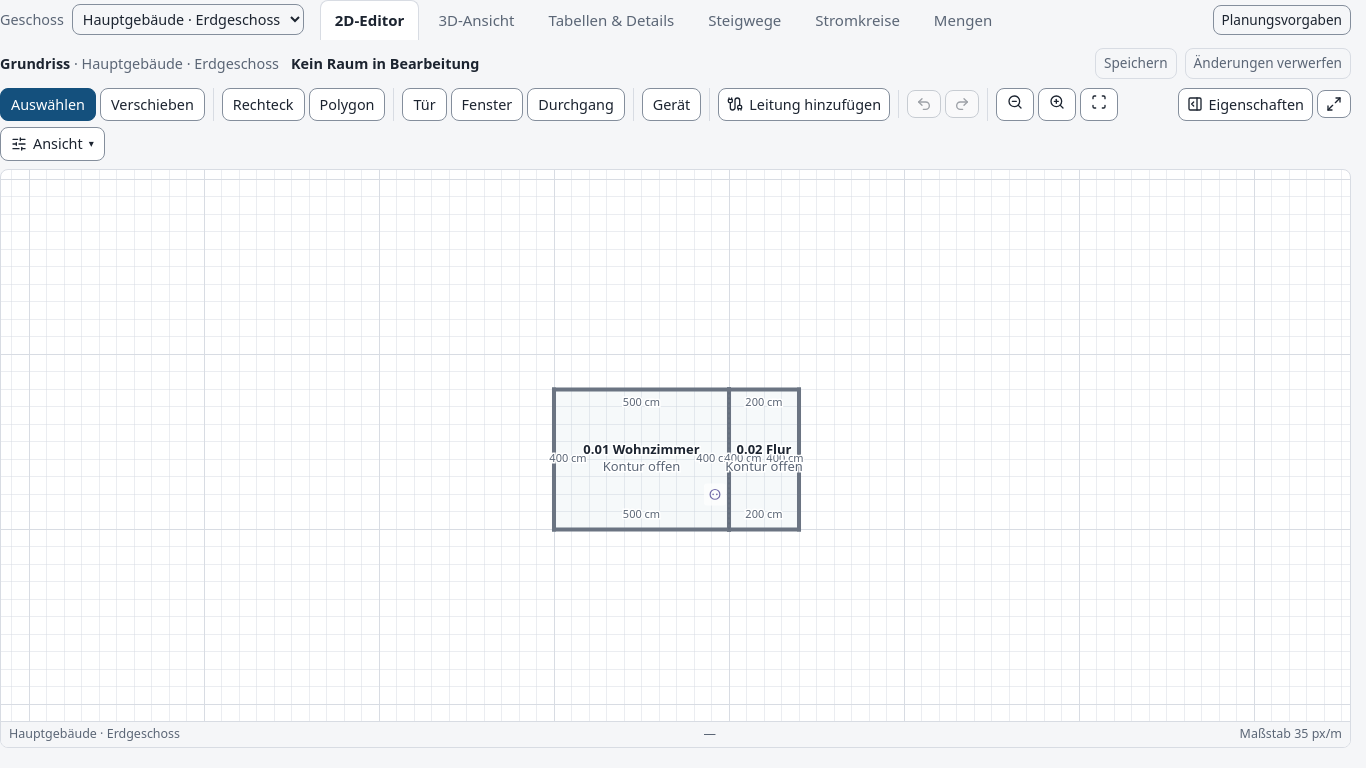
Test case: Gerätekatalog im Grundriss (K1) › Knopf und Taste G öffnen den Katalog; Abbrechen ändert nichts
Click the button "Gerät". click: (672, 104)
box: [642, 88, 701, 121]
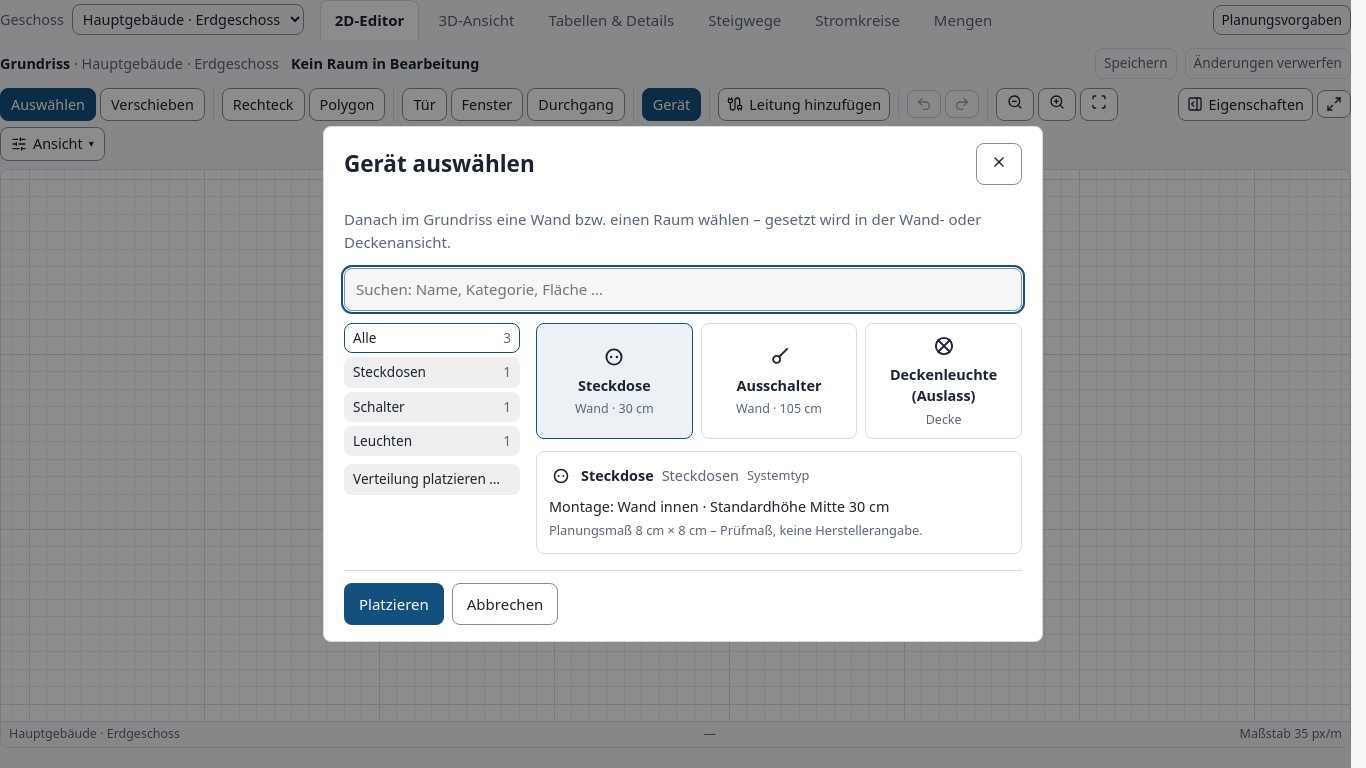
Click the button "Abbrechen". click: (505, 604)
box: [452, 583, 558, 625]
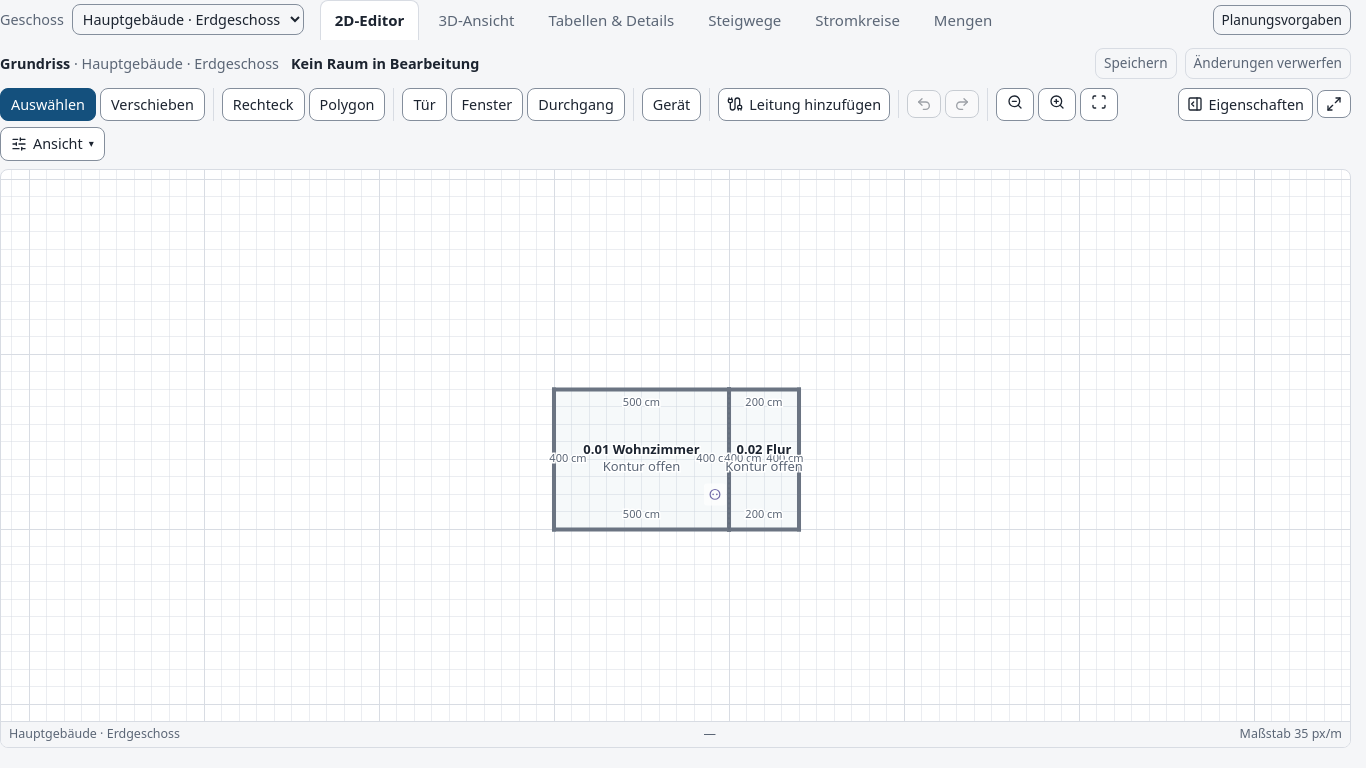
Now the dialog is gone
Press g in the icon named "Grundriss"
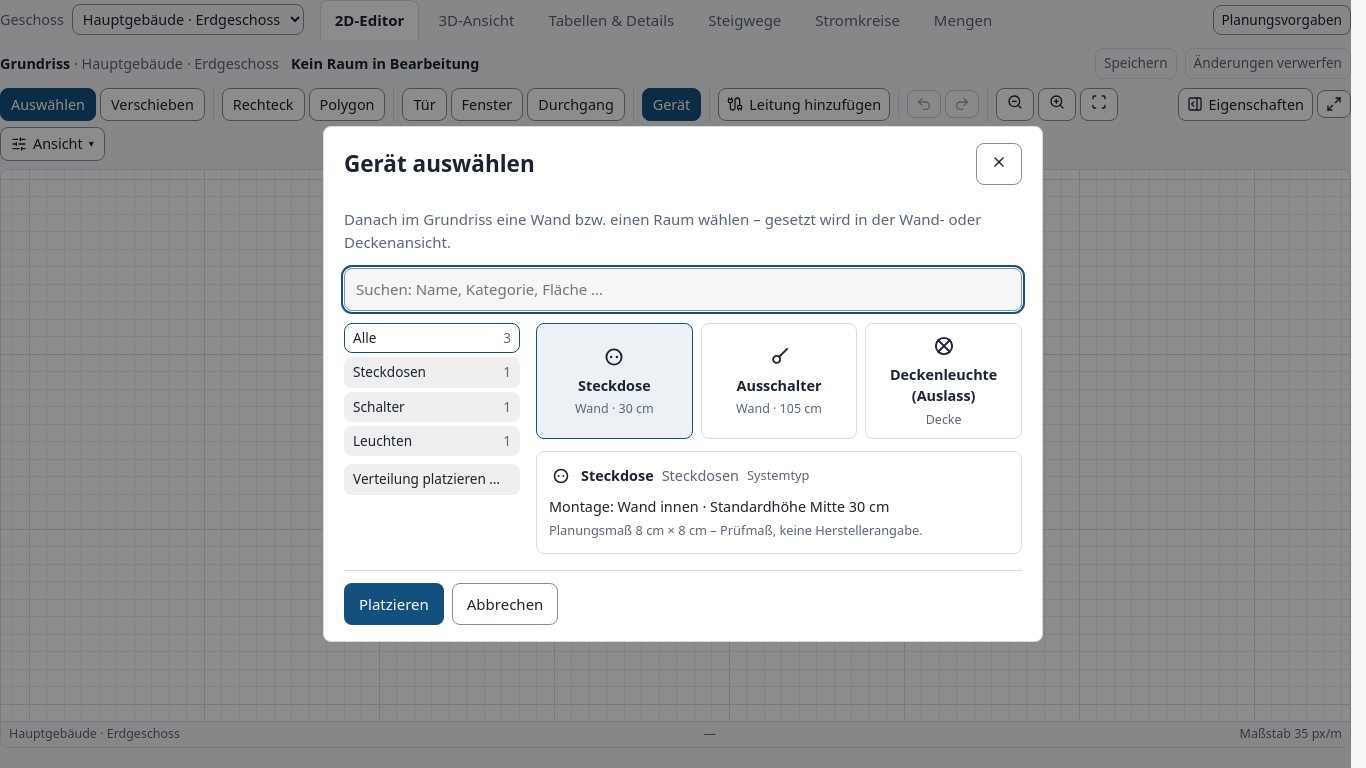
Click the button named "Dialog schließen". click: (999, 164)
box: [976, 143, 1022, 185]
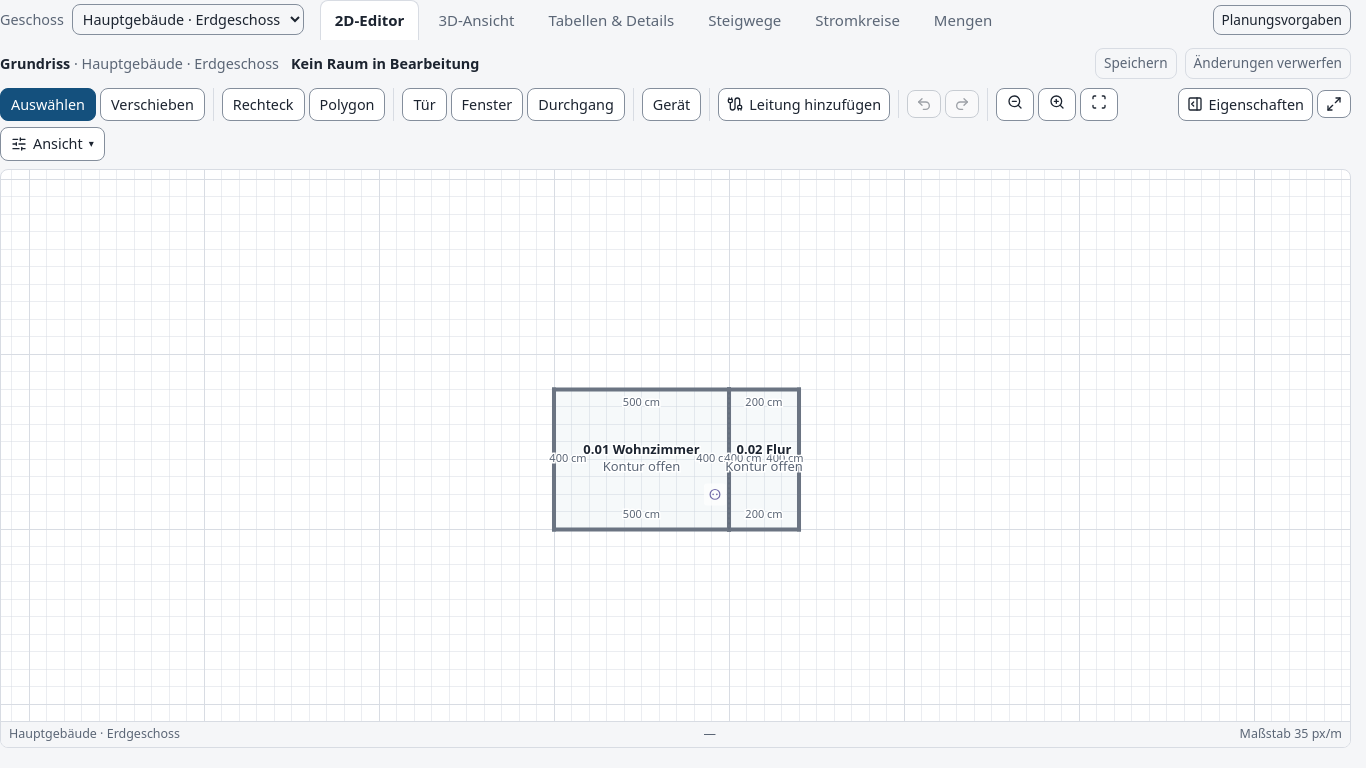
Now the dialog is gone
